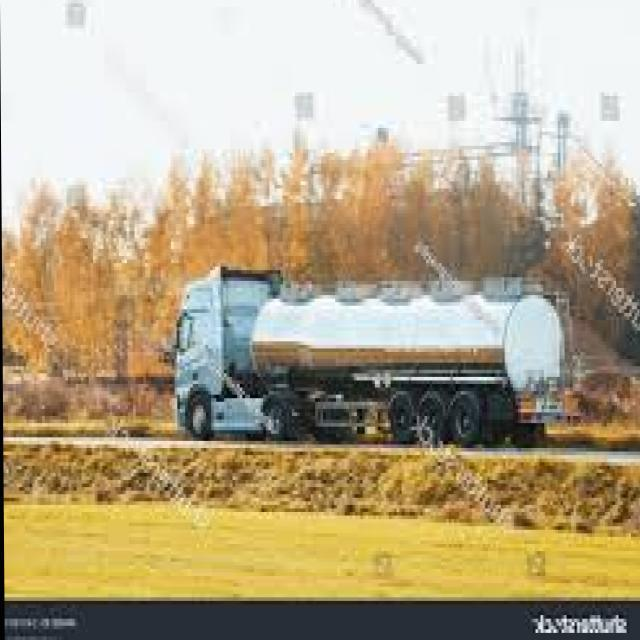covered: (168, 260, 572, 444)
